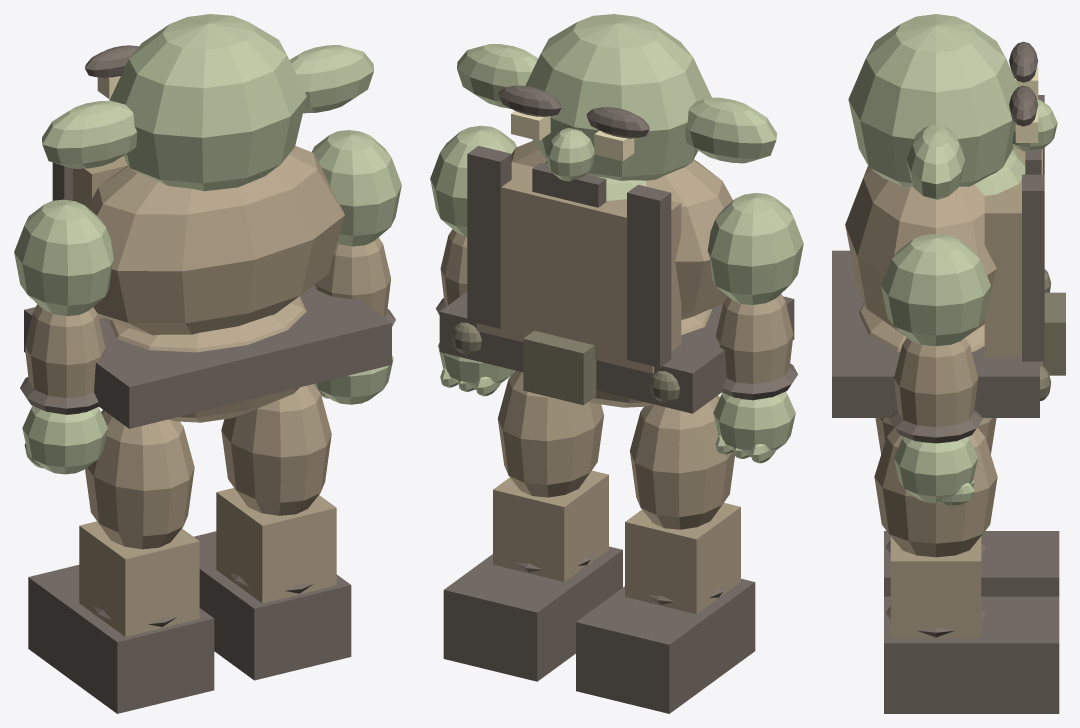
Rendered from goblin.gltf.
The picture shows the model from 3 angles, left to right: view 1: azimuth 30°, elevation 25°; view 2: azimuth 150°, elevation 25°; view 3: azimuth 270°, elevation 25°; orthographic projection. The views are drawn at different scales.
Parts seen in each view (by area): view 1: Part2, Part6, Part4, Part21, Part33, Part19, Part31, Part32, Part20, Part16, Part28, Part17 (+10 smaller); view 2: Part3, Part6, Part21, Part33, Part19, Part20, Part32, Part31, Part4, Part16, Part40, Part2 (+20 smaller); view 3: Part6, Part33, Part4, Part2, Part28, Part31, Part32, Part29, Part3, Part21, Part42, Part30 (+12 smaller).
Boxes of the visible parts, x1,y1,x2,y2 form: Part2: (87, 146, 344, 335); Part6: (109, 14, 306, 191); Part4: (24, 285, 391, 428); Part21: (28, 565, 214, 713); Part33: (194, 531, 351, 680); Part19: (85, 410, 194, 549); Part31: (221, 384, 331, 515); Part32: (216, 488, 336, 603); Part20: (79, 521, 199, 636); Part16: (14, 199, 113, 315); Part28: (312, 130, 401, 246); Part17: (25, 304, 105, 414); Part3: (476, 162, 681, 373); Part6: (525, 14, 711, 180); Part21: (576, 578, 755, 713); Part33: (443, 546, 622, 681); Part19: (630, 395, 734, 529); Part20: (625, 503, 740, 614); Part32: (493, 470, 608, 581); Part31: (497, 370, 603, 497); Part4: (439, 292, 794, 413); Part16: (707, 193, 803, 304); Part40: (627, 184, 671, 367); Part2: (511, 141, 732, 319); Part6: (848, 14, 1017, 186); Part33: (884, 596, 1059, 713); Part4: (832, 250, 1039, 417); Part2: (845, 166, 996, 337); Part28: (881, 234, 990, 346); Part31: (874, 427, 997, 557); Part32: (890, 536, 981, 637); Part29: (894, 337, 977, 443); Part3: (984, 146, 1042, 365); Part21: (884, 531, 1059, 596); Part42: (1022, 174, 1044, 361); Part30: (894, 436, 977, 503).
Bounding box in the file's own units: 0.65 × 1.08 × 0.36.
